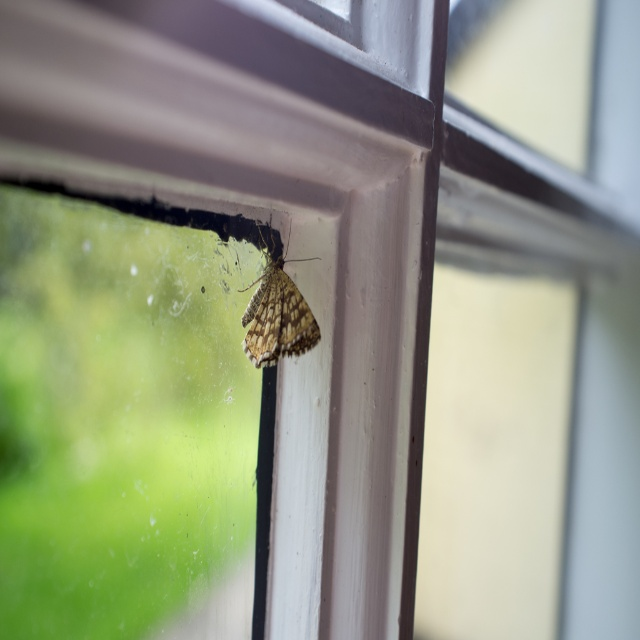Butterfly: (239, 229, 318, 377)
